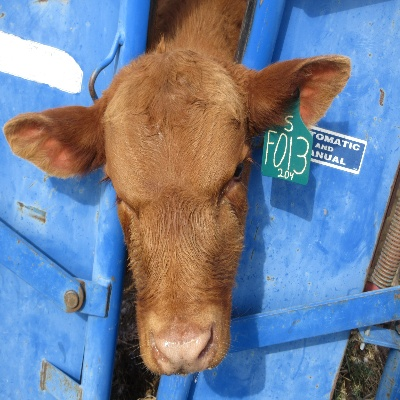fidget_spinner: (148, 328, 217, 374)
